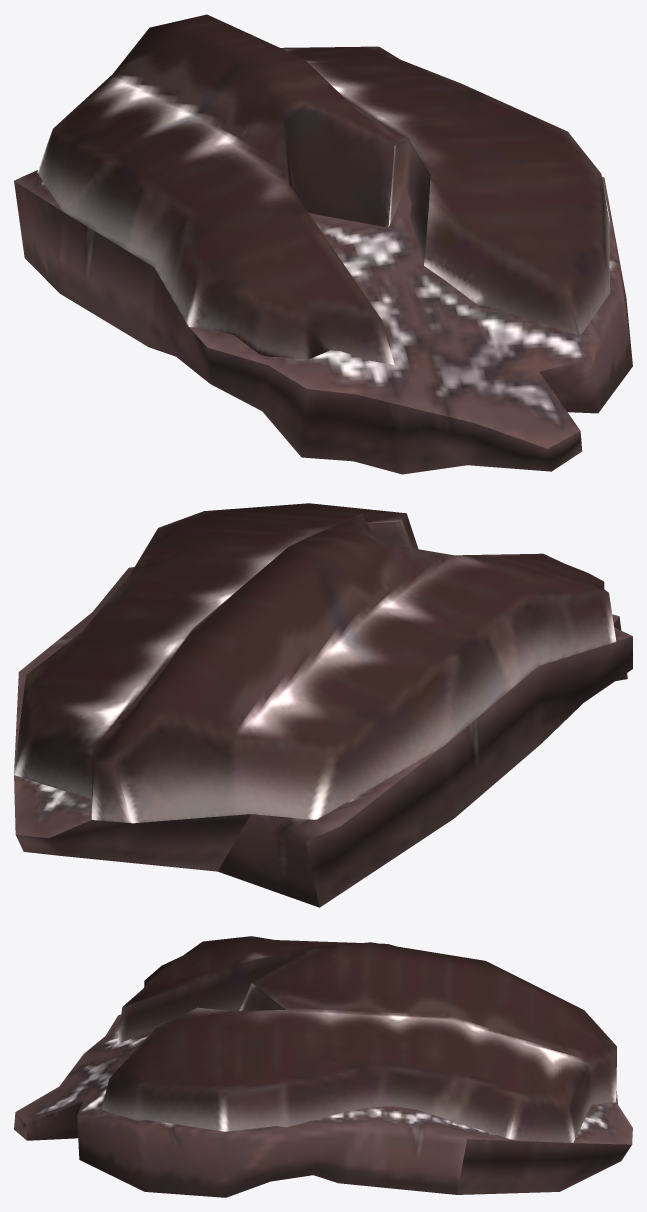
The model's file is Item_Enemy_48.glb.
3 renders of one model, top to bottom at view 1: azimuth 30°, elevation 25°; view 2: azimuth 150°, elevation 25°; view 3: azimuth 270°, elevation 25°, orthographic. The views are drawn at different scales.
Parts seen in each view (by area): view 1: Item_Enemy_48; view 2: Item_Enemy_48; view 3: Item_Enemy_48.
Boxes of the visible parts, x1,y1,x2,y2 form: Item_Enemy_48: (14,14,632,474); Item_Enemy_48: (14,503,632,907); Item_Enemy_48: (14,936,632,1197).
Size of the model in its own units: 0.9441 by 0.4881 by 1.5.
Materials: 2 (2 with a texture image).
